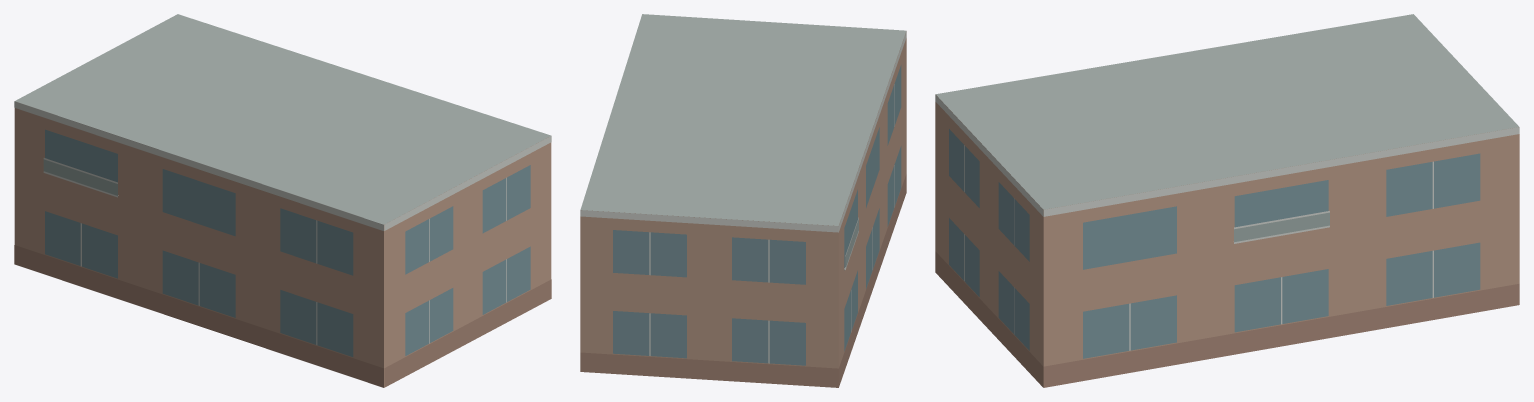
Rendered from survey-upis-32855545.glb.
The picture shows the model from 3 angles, left to right: view 1: azimuth 30°, elevation 25°; view 2: azimuth 150°, elevation 25°; view 3: azimuth 270°, elevation 25°; orthographic projection. The views are drawn at different scales.
Parts seen in each view (by area): view 1: survey-upis-32855545.tmp; view 2: survey-upis-32855545.tmp; view 3: survey-upis-32855545.tmp.
Boxes of the visible parts, x1,y1,x2,y2 form: survey-upis-32855545.tmp: [14, 14, 551, 387]; survey-upis-32855545.tmp: [580, 14, 906, 387]; survey-upis-32855545.tmp: [935, 14, 1519, 387].
Size of the model in its own units: 14.39 by 6.1 by 18.14.
